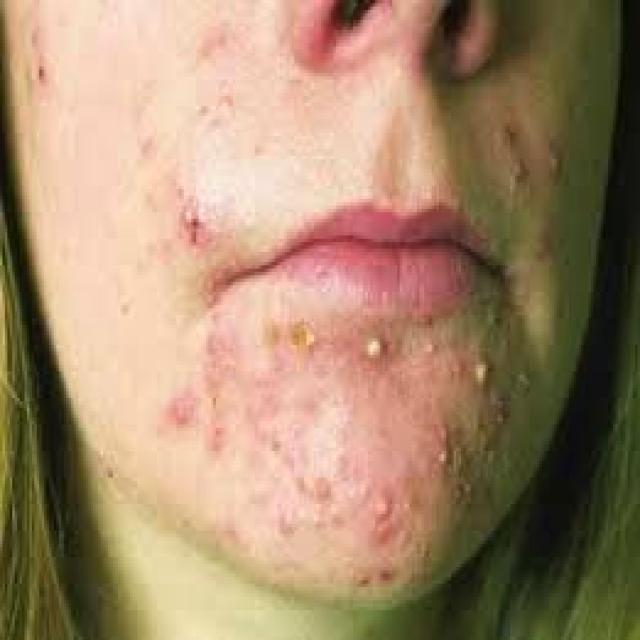Acne: (352, 318, 395, 380), (365, 486, 403, 544), (463, 346, 501, 396), (158, 392, 202, 434), (176, 202, 210, 252)
